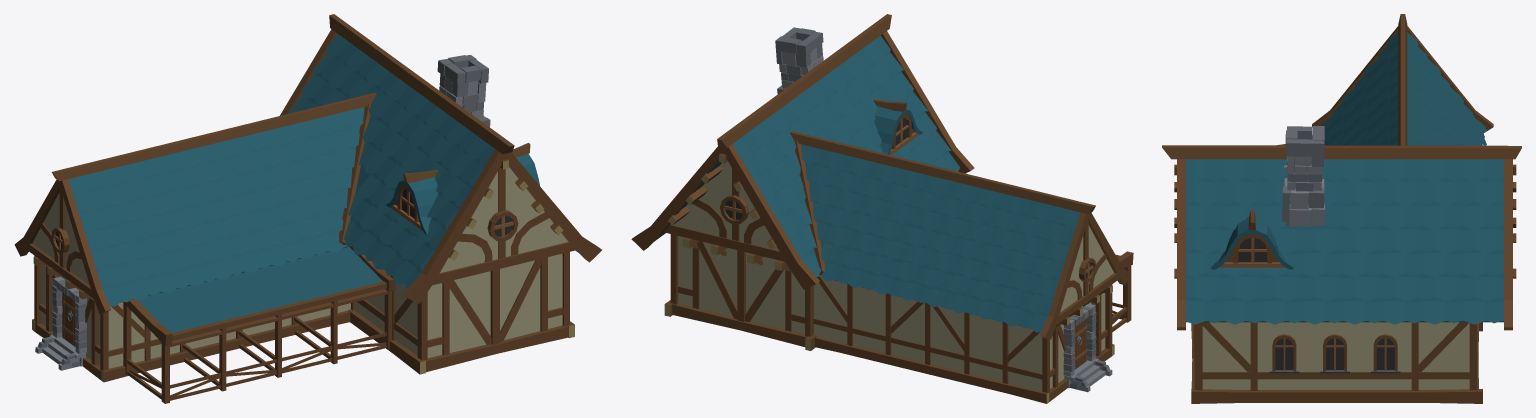
Rendered from fantasy-stable.glb.
3 views of the same model, side by side, from view 1: azimuth 30°, elevation 25°; view 2: azimuth 150°, elevation 25°; view 3: azimuth 270°, elevation 25° (orthographic). The views are drawn at different scales.
Parts seen in each view (by area): view 1: Stable; view 2: Stable; view 3: Stable.
Part boxes in pixels (<box>): Stable: <box>14,14,601,403</box>; Stable: <box>631,14,1133,403</box>; Stable: <box>1162,14,1521,403</box>.
Bounding box in the file's own units: 4.7 × 2.49 × 3.33.
Materials: 1 (1 with a texture image).
